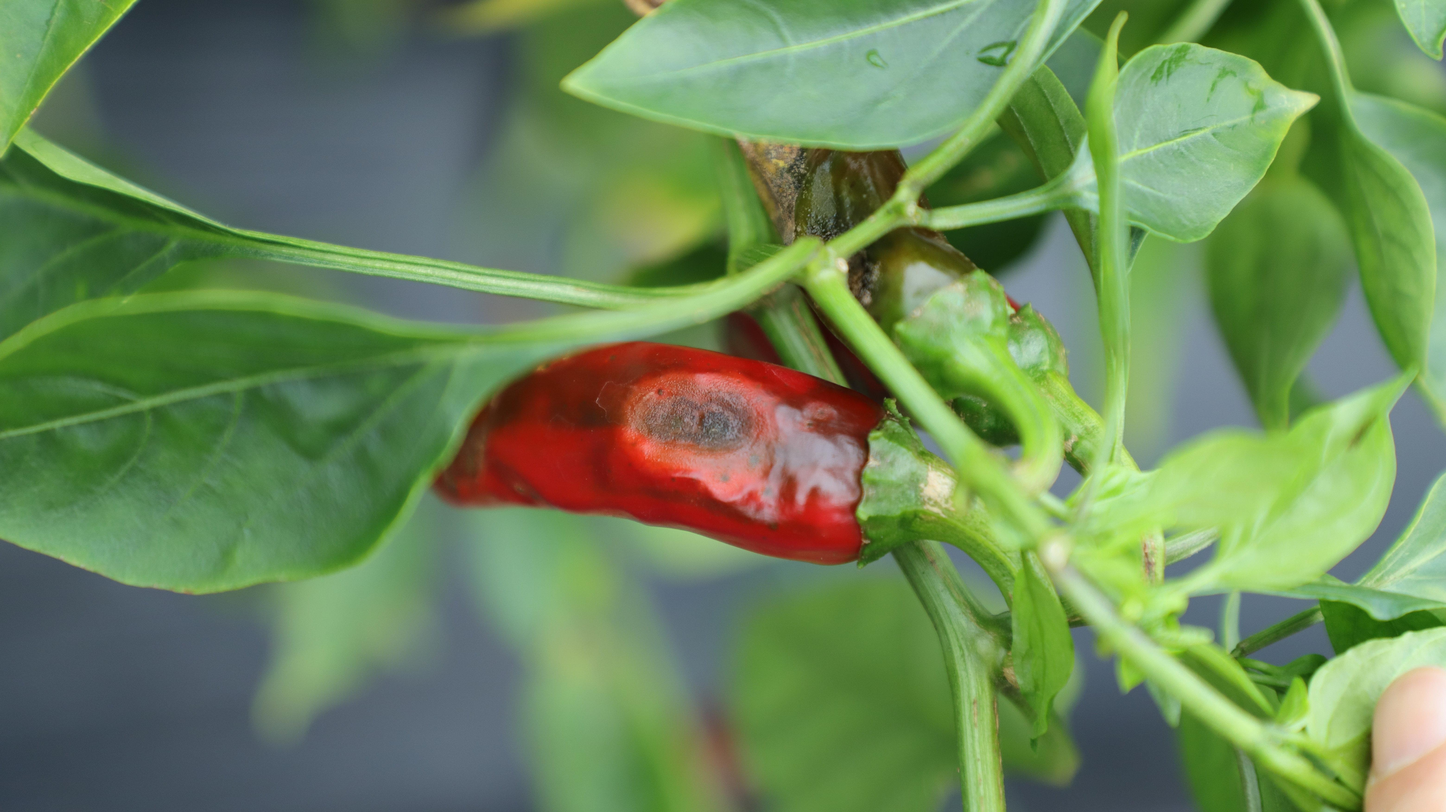Busuk Buah Antraknosa: (429, 338, 892, 569)
